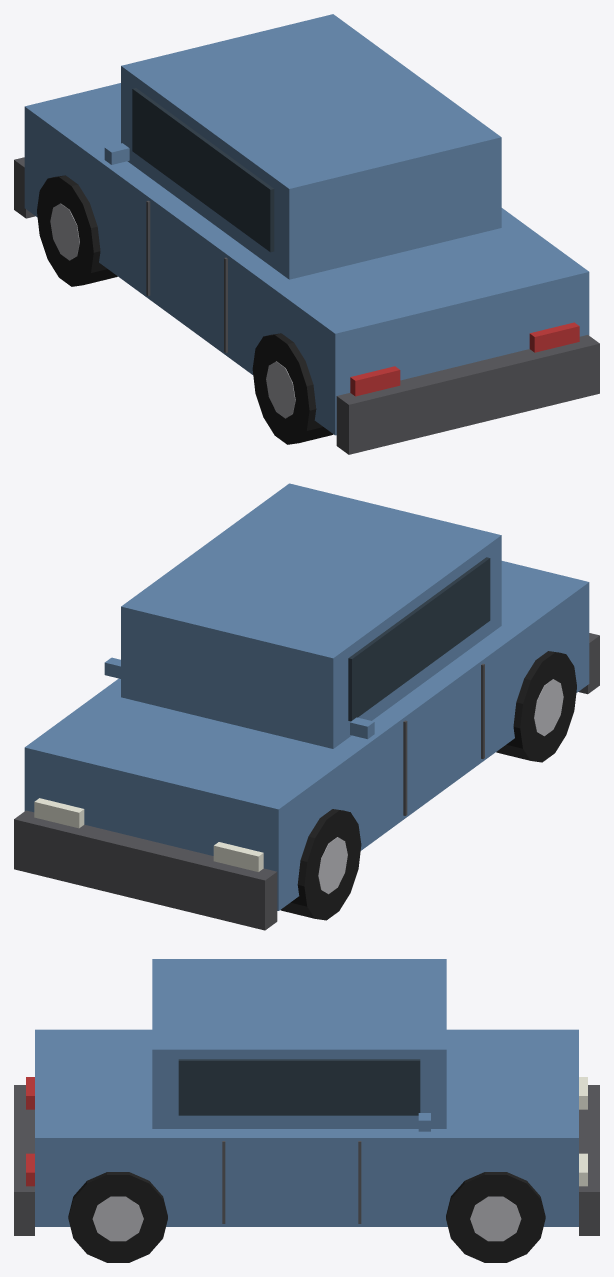
Rendered from ParkedCar_01.fbx.
3 views of the same model, one above another, from view 1: azimuth 30°, elevation 25°; view 2: azimuth 150°, elevation 25°; view 3: azimuth 270°, elevation 25° (orthographic). The views are drawn at different scales.
Parts seen in each view (by area): view 1: ParkedCar_01; view 2: ParkedCar_01; view 3: ParkedCar_01.
Boxes of the visible parts, x1,y1,x2,y2 form: ParkedCar_01: (14,14,599,454); ParkedCar_01: (14,483,599,930); ParkedCar_01: (14,959,599,1262).
Size of the model in its own units: 179 by 147 by 388.
